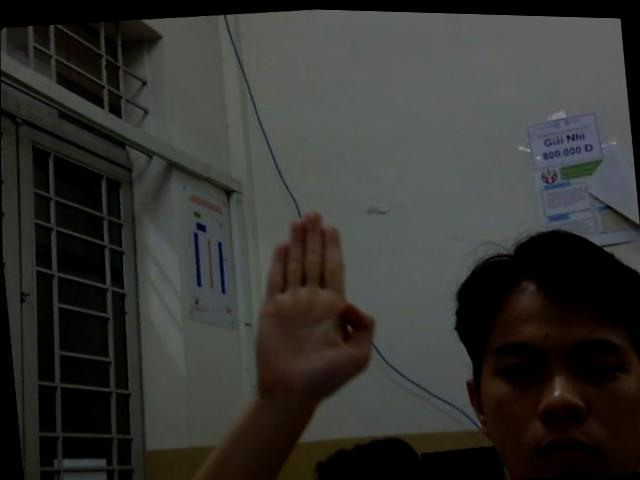B: (238, 199, 383, 405)
